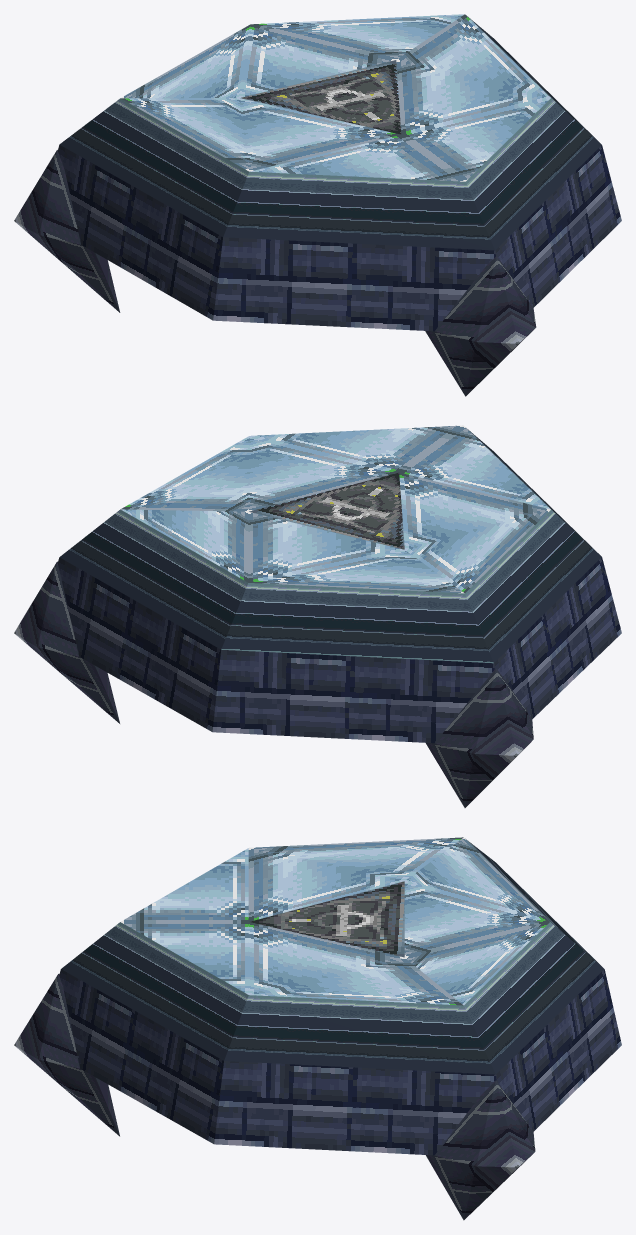
The model's file is 1e-timed-mine-tp.glb.
The picture shows the model from 3 angles, top to bottom: view 1: azimuth 30°, elevation 25°; view 2: azimuth 150°, elevation 25°; view 3: azimuth 270°, elevation 25°; orthographic projection.
Visible parts, largest first — view 1: gun; view 2: gun; view 3: gun.
Part boxes in pixels (x1=…): gun: x1=14, y1=14, x2=621, y2=396; gun: x1=14, y1=425, x2=621, y2=807; gun: x1=14, y1=837, x2=621, y2=1220.
Bounding box in the file's own units: 282 × 115 × 296.
Materials: 5 (5 with a texture image).
